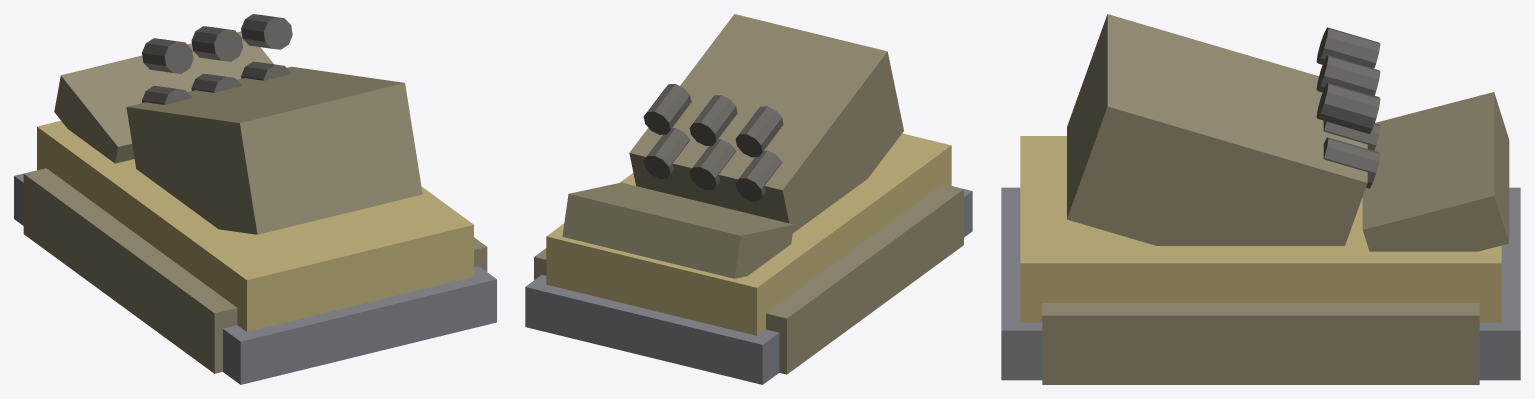
Rendered from dm_hover_mlrs.glb.
3 renders of one model, left to right at view 1: azimuth 30°, elevation 25°; view 2: azimuth 150°, elevation 25°; view 3: azimuth 270°, elevation 25°, orthographic. The views are drawn at different scales.
Parts seen in each view (by area): view 1: hull, turret; view 2: hull, turret; view 3: hull, turret.
Part boxes in pixels (bbox=[...]): hull: bbox=[14, 31, 496, 384]; turret: bbox=[126, 14, 422, 234]; hull: bbox=[525, 133, 972, 384]; turret: bbox=[629, 14, 903, 233]; hull: bbox=[1001, 92, 1520, 384]; turret: bbox=[1067, 14, 1380, 245].
Size of the model in its own units: 0.66 by 0.5087 by 0.95.
